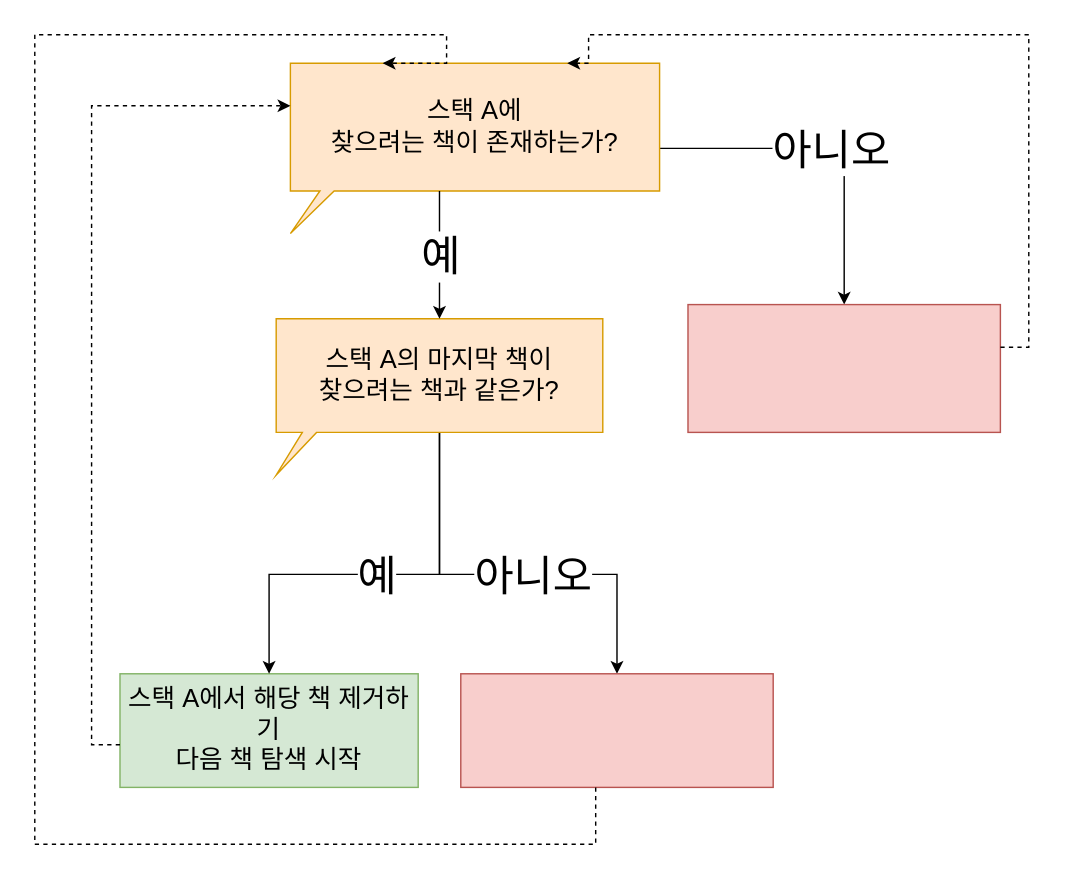
Some shapes in this 1065 by 880 pixel diagram are drawn without their labels. The box of each missing label's shape, as (x1, y1, x2, y2) in pixels:
스택 A의 마지막 책을 스택 B로 옮기기: (459, 672, 773, 787)
스택 B의 마지막 책을 스택 A로 옮기기: (687, 303, 1000, 432)
